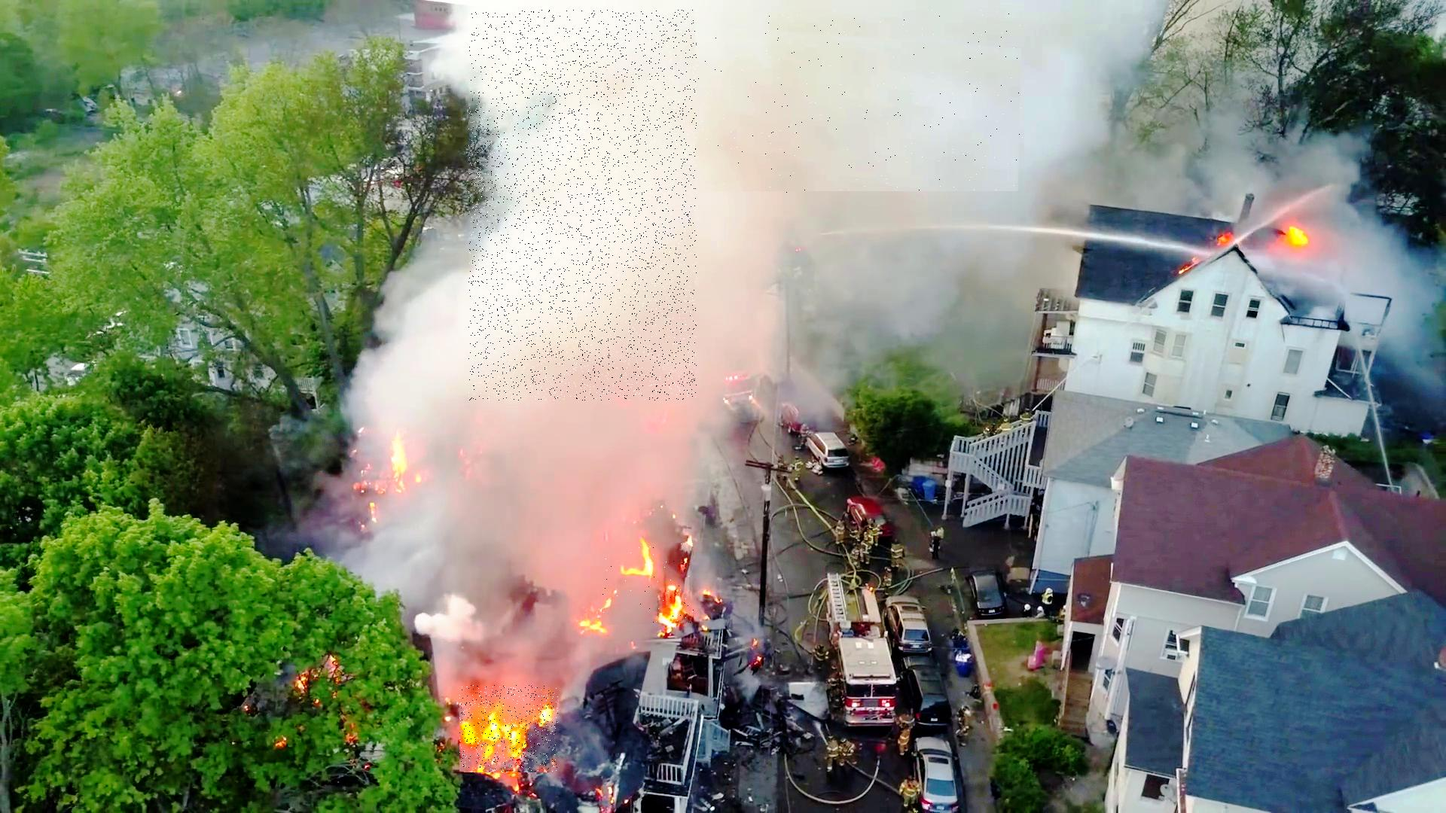fire: (460, 685, 558, 772), (602, 543, 694, 625)
smoke: (471, 10, 1023, 193), (469, 10, 697, 401)
